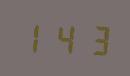four: (49, 19, 78, 56)
one: (18, 18, 47, 55)
three: (79, 20, 108, 57)
